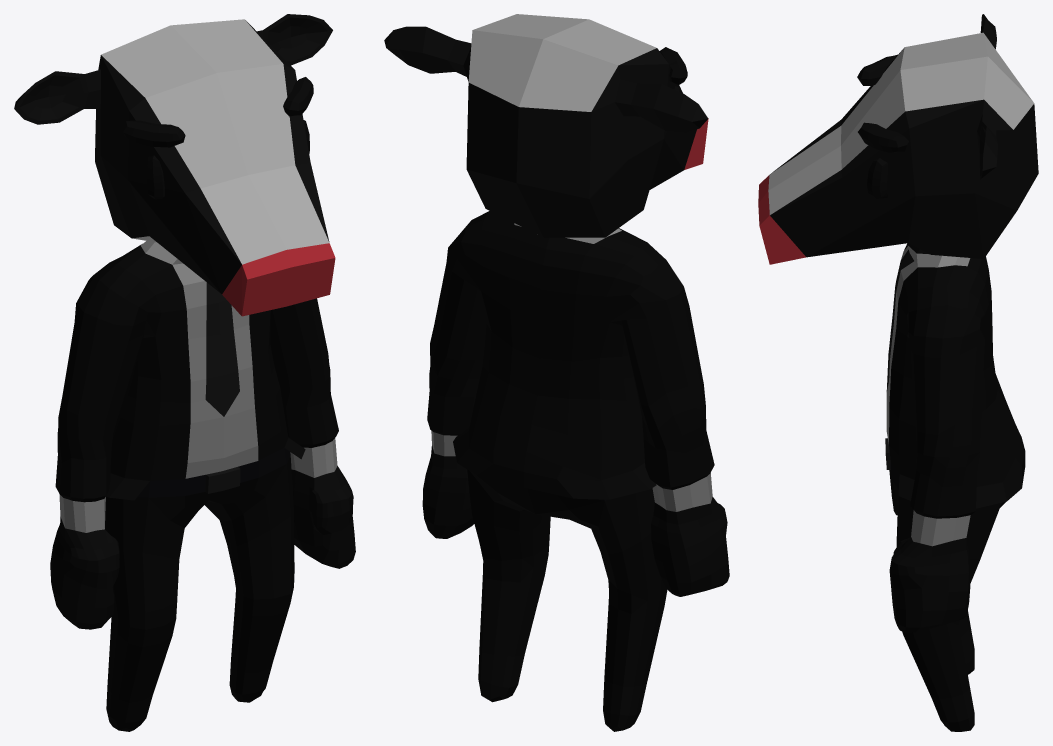
The model's file is Cow.obj.
3 views of the same model, side by side, from view 1: azimuth 30°, elevation 25°; view 2: azimuth 150°, elevation 25°; view 3: azimuth 270°, elevation 25° (orthographic). The views are drawn at different scales.
Visible parts, largest first — view 1: Body_Cube.004; view 2: Body_Cube.004; view 3: Body_Cube.004.
Part boxes in pixels (box(x1,y1,x2,y2)): Body_Cube.004: box(14, 14, 355, 731); Body_Cube.004: box(384, 14, 729, 731); Body_Cube.004: box(758, 14, 1038, 731).
Size of the model in its own units: 1.41 by 2.86 by 1.13.
